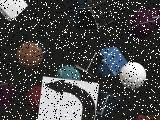Left: (38, 76, 99, 120)
